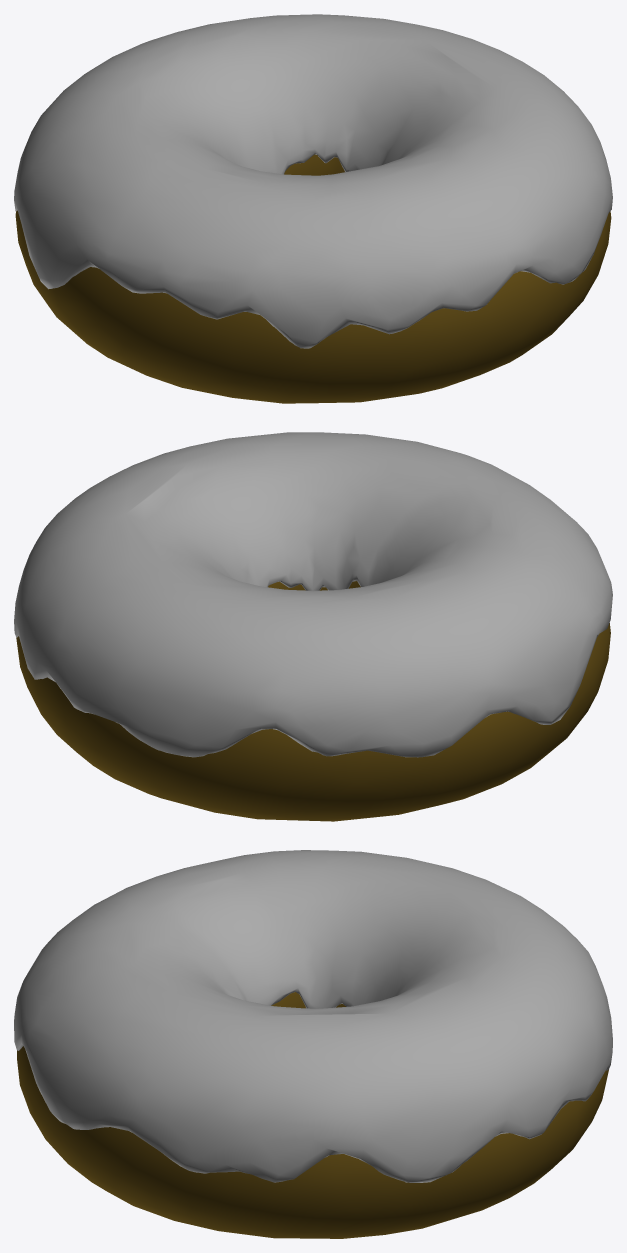
File: donut.obj
The picture shows the model from 3 angles, top to bottom: view 1: azimuth 30°, elevation 25°; view 2: azimuth 150°, elevation 25°; view 3: azimuth 270°, elevation 25°; orthographic projection.
Parts seen in each view (by area): view 1: icing_Torus.002, donut_Torus.001; view 2: icing_Torus.002, donut_Torus.001; view 3: icing_Torus.002, donut_Torus.001.
Part boxes in pixels (<box>): icing_Torus.002: <box>14,14,612,348</box>; donut_Torus.001: <box>15,154,611,403</box>; icing_Torus.002: <box>14,432,612,757</box>; donut_Torus.001: <box>16,581,610,821</box>; icing_Torus.002: <box>14,850,612,1182</box>; donut_Torus.001: <box>17,992,608,1238</box>.
Size of the model in its own units: 3.18 by 1.23 by 3.18.
